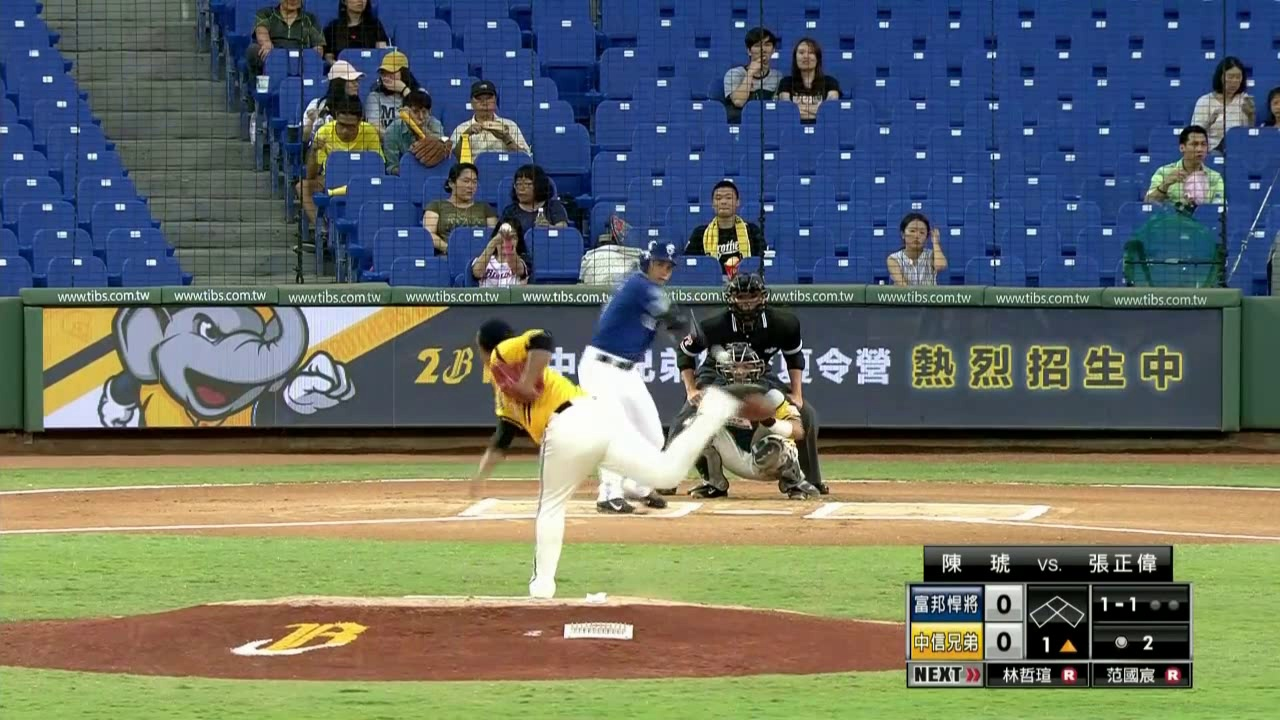ball: (720, 352, 727, 361)
base: (1031, 588, 1087, 632)
bat: (658, 331, 680, 339)
out: (1146, 594, 1185, 615)
score1: (991, 585, 1015, 619)
score2: (990, 628, 1021, 656)
session: (1033, 634, 1086, 659)
strikeball: (1095, 591, 1142, 618)
total: (1108, 628, 1157, 654)
